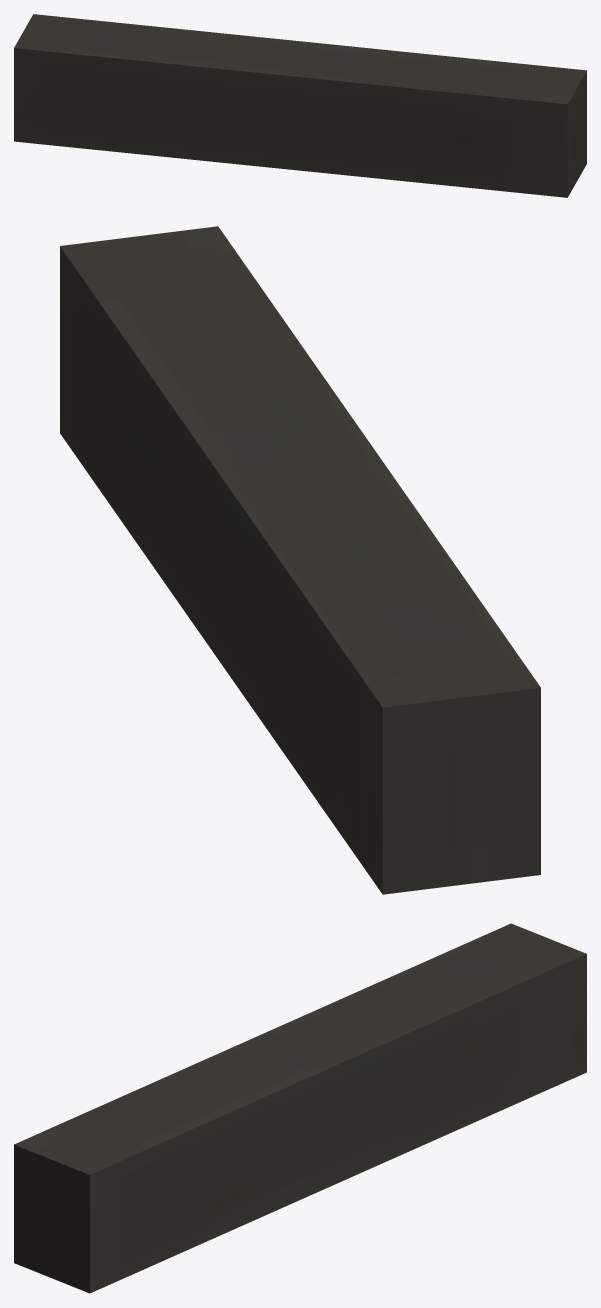
The model's file is frame__rear_upright_pos.glb.
3 renders of one model, top to bottom at view 1: azimuth 30°, elevation 25°; view 2: azimuth 150°, elevation 25°; view 3: azimuth 270°, elevation 25°, orthographic. The views are drawn at different scales.
Parts seen in each view (by area): view 1: world; view 2: world; view 3: world.
Boxes of the visible parts, x1,y1,x2,y2 form: world: [14, 14, 586, 197]; world: [60, 226, 540, 894]; world: [14, 923, 586, 1293].
Size of the model in its own units: 0.2275 by 0.05 by 0.219.
Materials: 1 (1 with a texture image).
